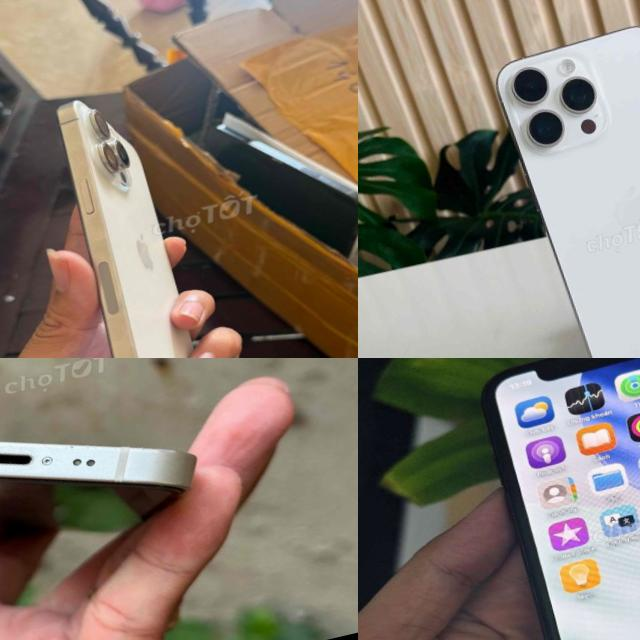gen_11: (460, 358, 640, 640)
gen_12_13: (0, 358, 219, 624)
gen_15: (40, 68, 234, 358), (478, 13, 640, 358)
